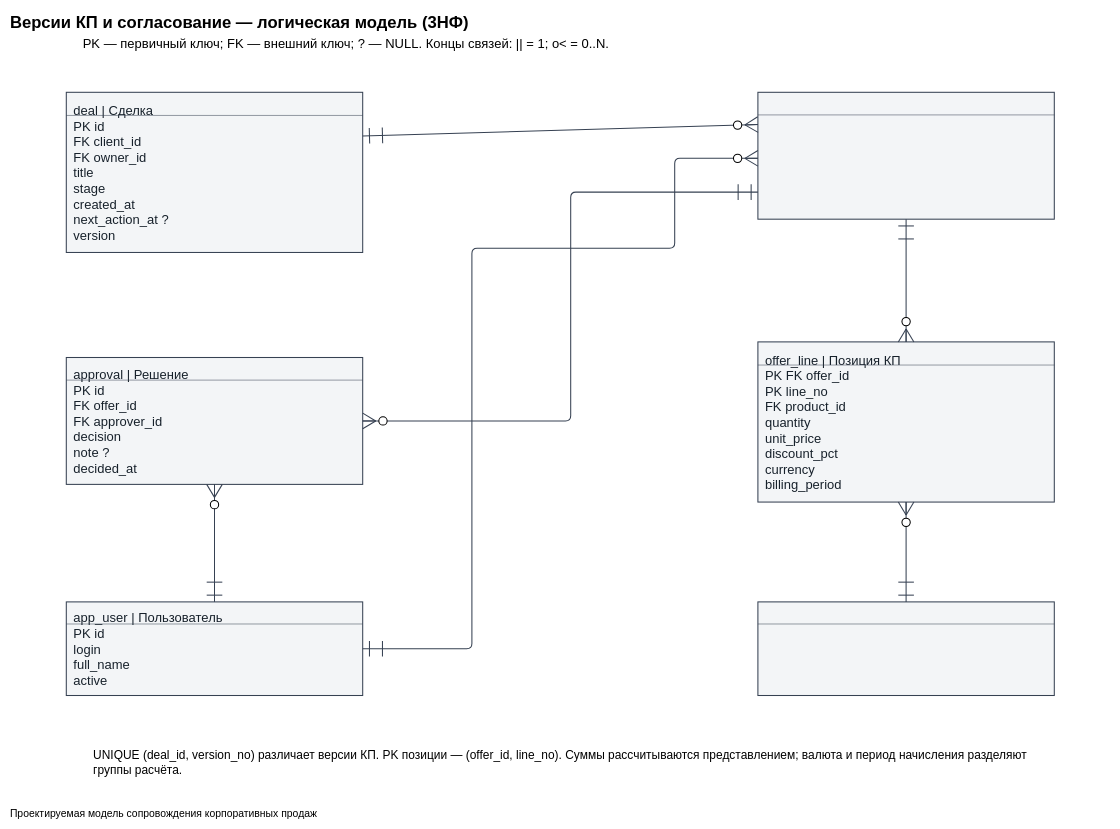
This 1120x829 diagram has some shape labels left out. Here are the shapes that lost their labels. From the top down, the centre of each, then its label:
(906,155): offer | КП PK id FK deal_id FK author_id version_no status created_at
(906,648): product | Услуга PK id code name active
